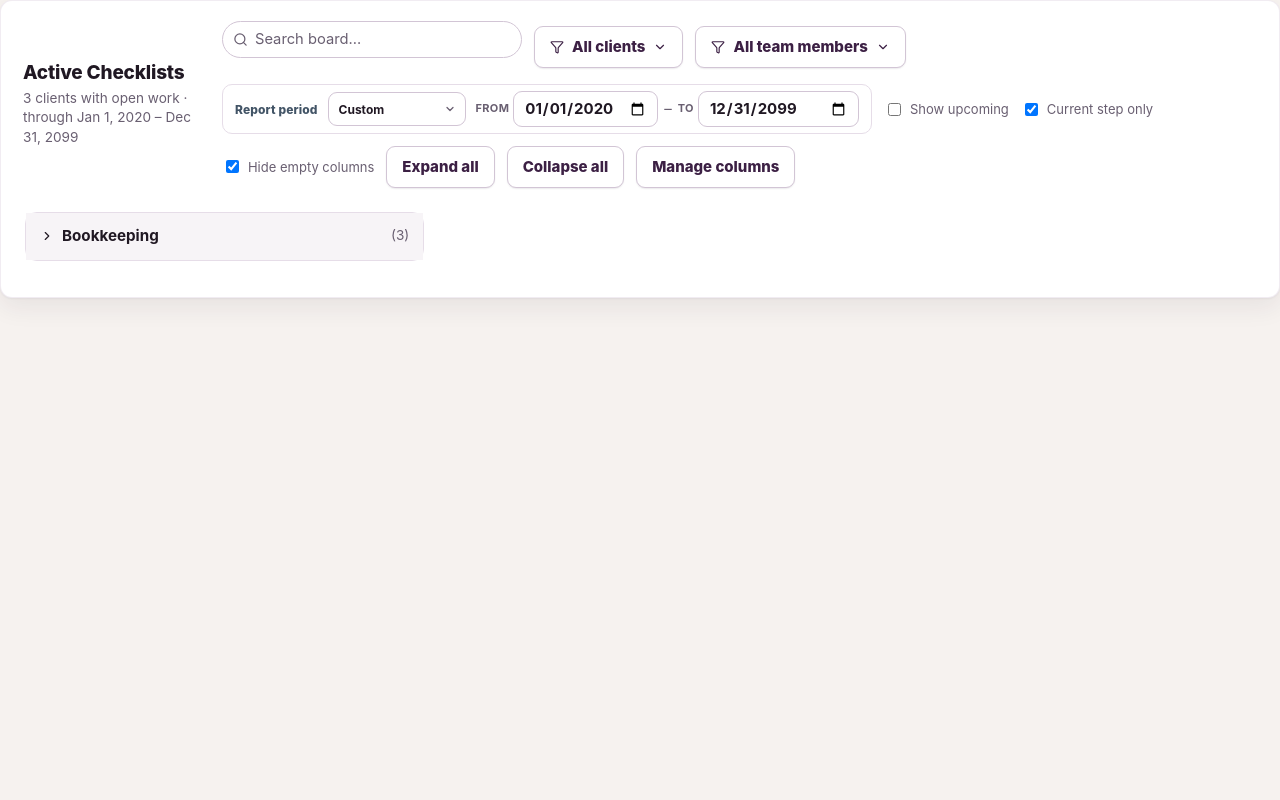
it: Board: Current step only (default ON) › folds one client row on its own and opens it again, keeping the roll-up line
Click the button "Expand all". click: (440, 167)
box: left=386, top=146, right=495, bottom=188
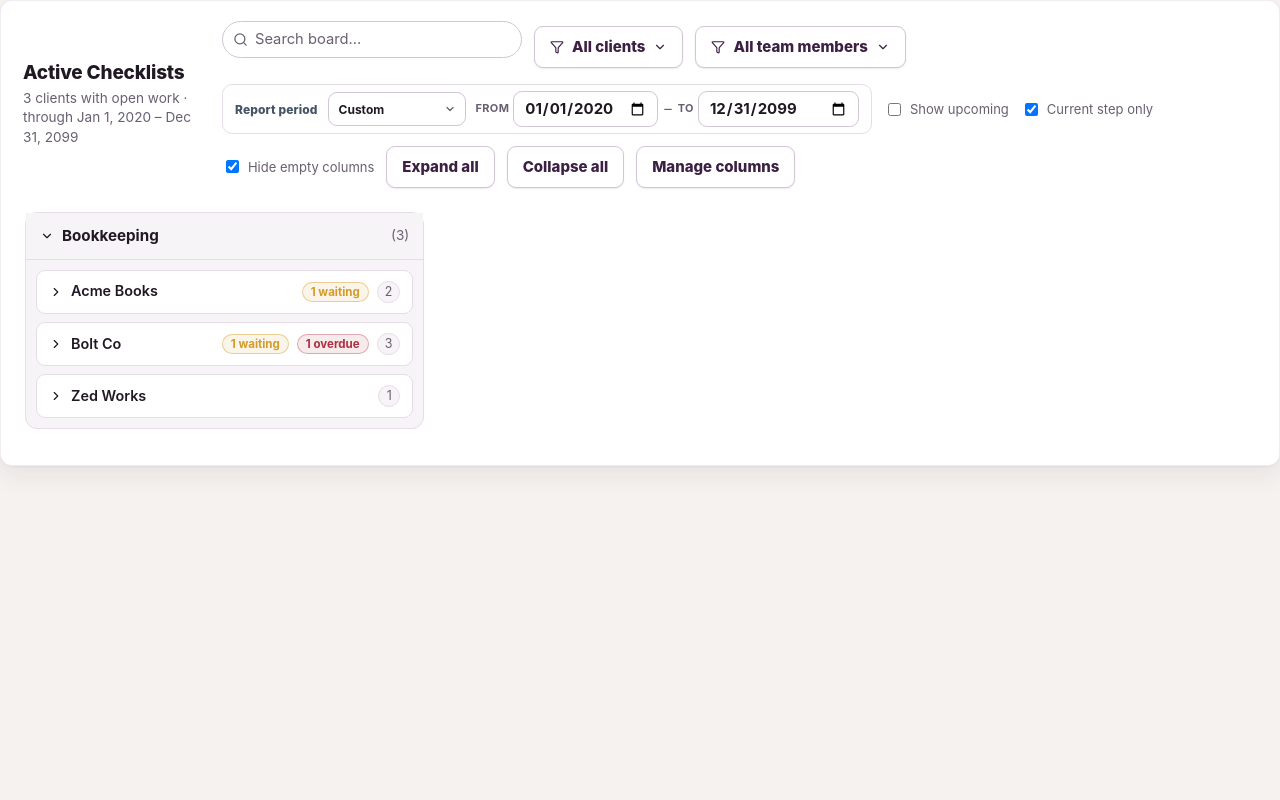
Click the button with class "board-client-toggle" showing "Acme Books 1 waiting 2". click: (114, 291)
box: left=37, top=271, right=412, bottom=313
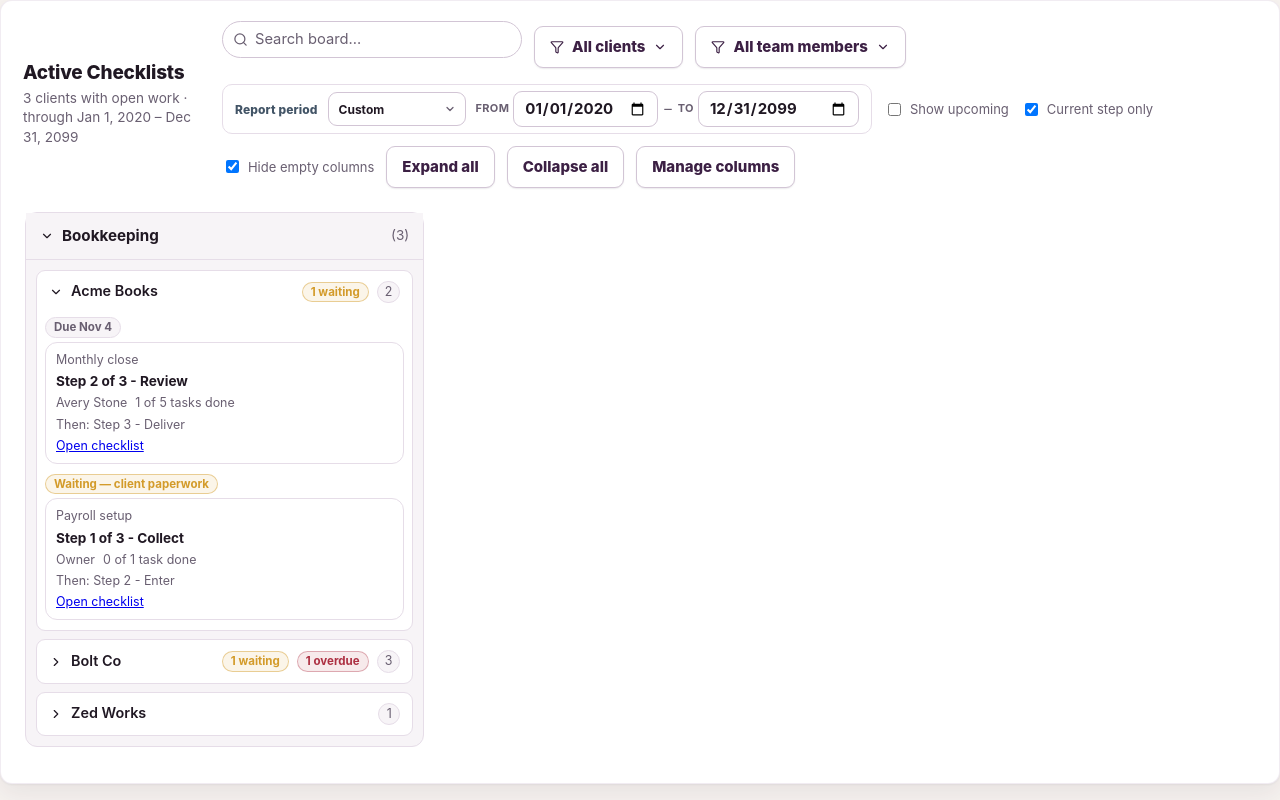
Click the button with class "board-client-toggle" showing "Bolt Co 1 waiting 1 overdue 3". click: (225, 662)
box: left=37, top=640, right=412, bottom=683
(page scrolled)
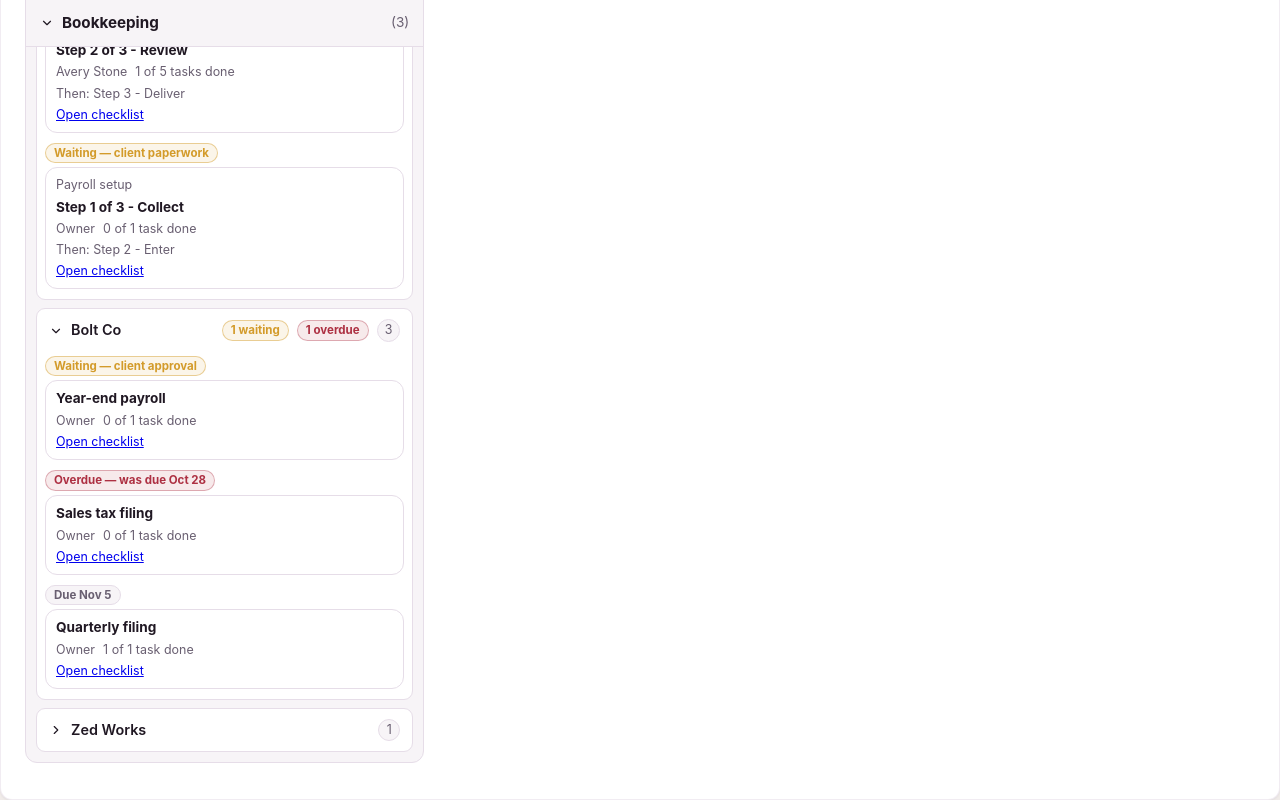
Click the button with class "board-client-toggle" showing "Zed Works 1". click: (109, 729)
box: left=37, top=709, right=412, bottom=751
(page scrolled)
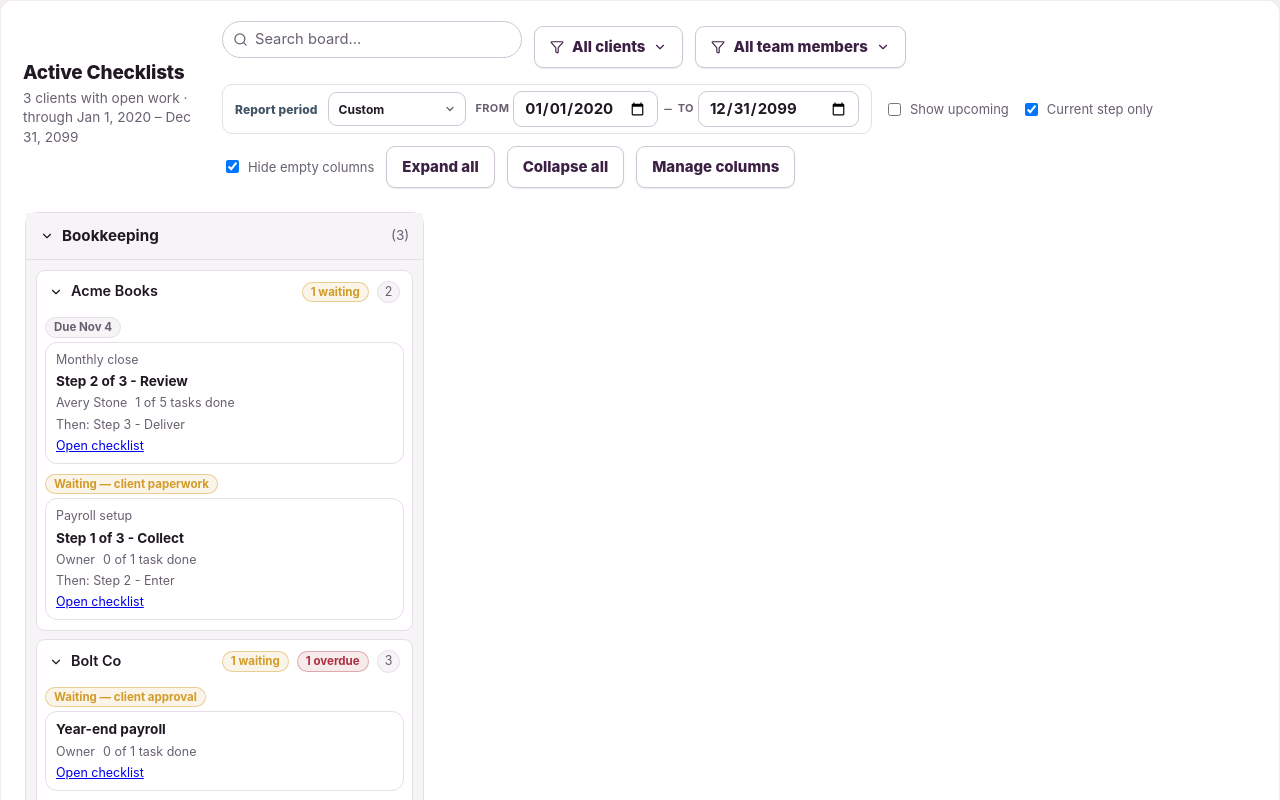
Check: the element with class "board-step-block" that starts with "Monthly close" is shown, box left=45, top=342, right=404, bottom=464
Click the button "Acme Books 1 waiting 2". click: (114, 291)
box: left=37, top=271, right=412, bottom=313
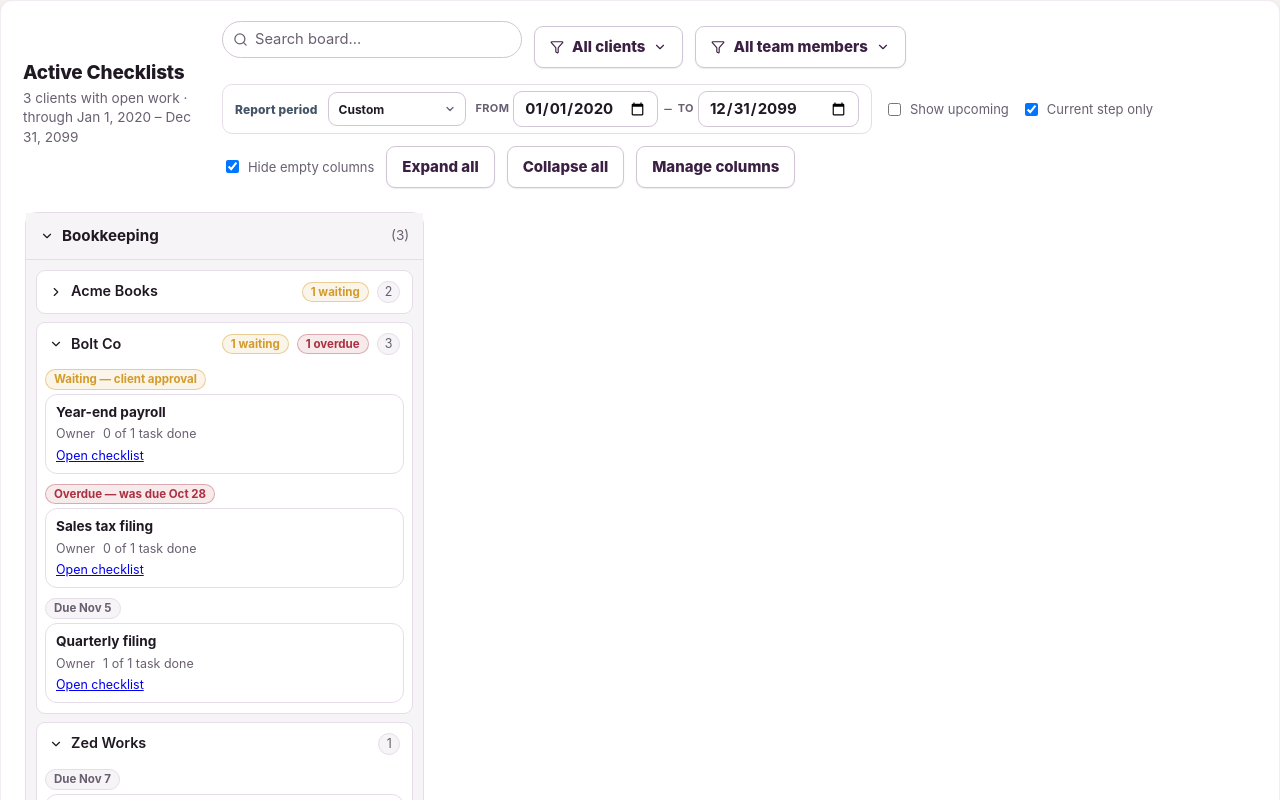
Check: the button "Acme Books 1 waiting 2" is shown
Check: the button "Acme Books 1 waiting 2" is collapsed
Check: the text "Step 2 of 3 - Review" is gone
Click the button "Acme Books 1 waiting 2". click: (114, 291)
box: left=37, top=271, right=412, bottom=313
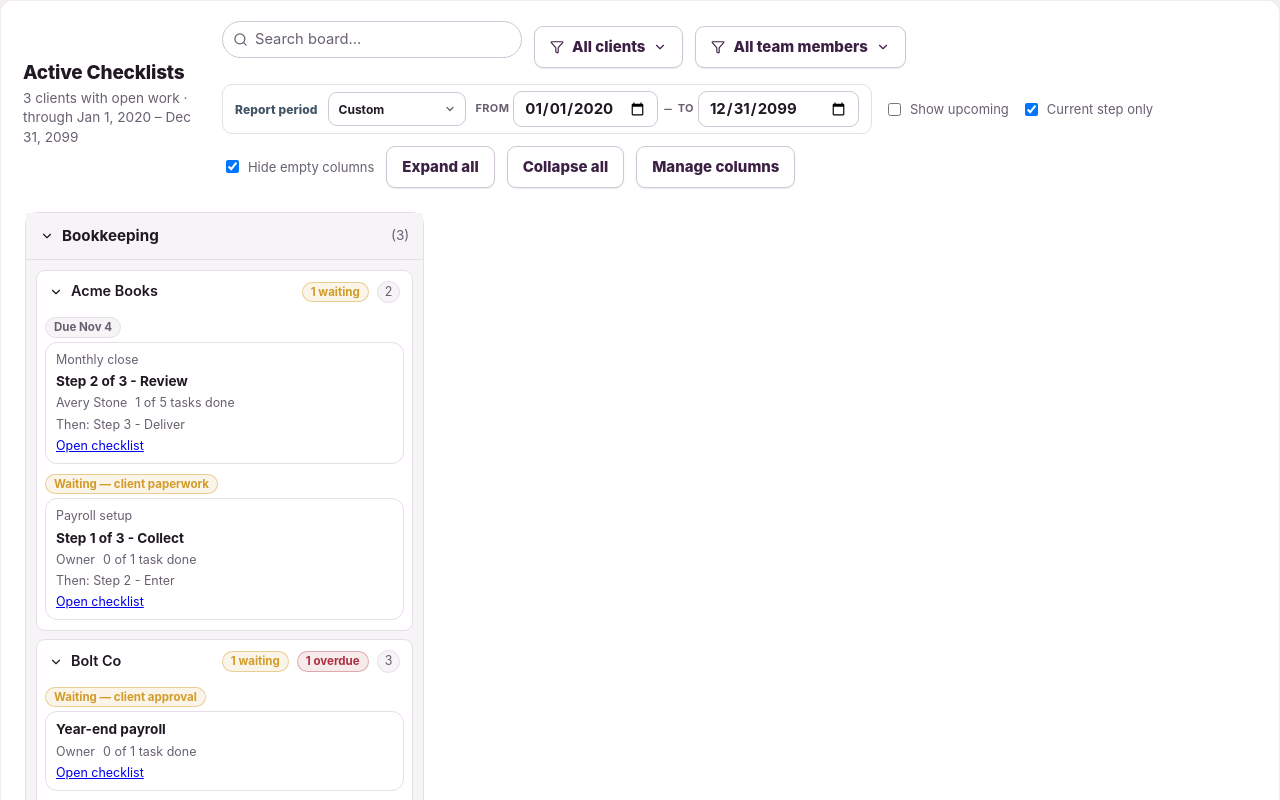
Check: the button "Acme Books 1 waiting 2" is expanded, box left=37, top=271, right=412, bottom=313
Check: the text "Step 2 of 3 - Review" is shown, box left=56, top=373, right=188, bottom=389
